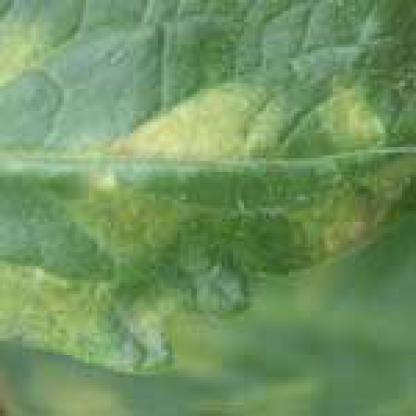Tomato mold leaf: (3, 3, 413, 386)
